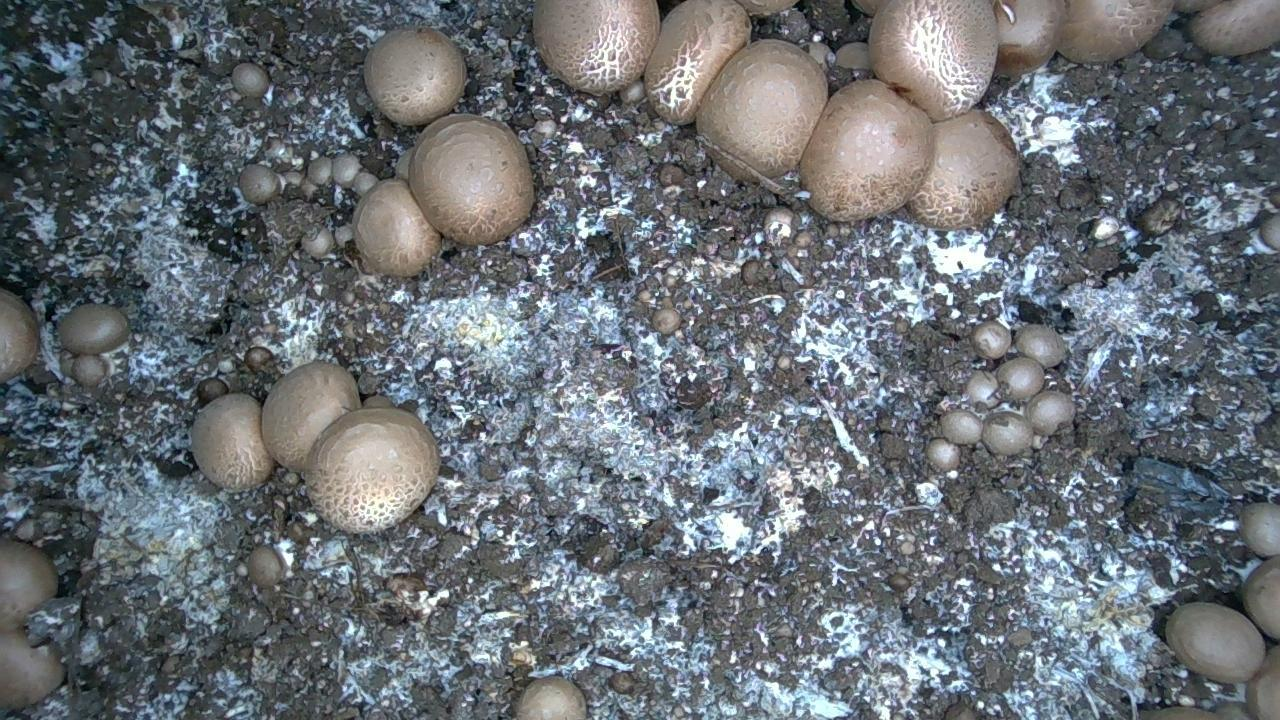BB: (696, 39, 828, 183), (800, 80, 934, 220), (305, 408, 438, 532), (409, 114, 533, 244), (868, 0, 997, 120), (908, 109, 1018, 229), (644, 0, 750, 124), (533, 0, 659, 94), (262, 361, 360, 472), (364, 28, 465, 125), (353, 179, 441, 276), (1166, 602, 1265, 683), (191, 393, 273, 490), (1058, 0, 1173, 62), (993, 0, 1064, 76), (0, 630, 64, 709), (1189, 0, 1279, 56), (58, 304, 128, 354), (1242, 555, 1279, 639), (516, 676, 586, 719), (1246, 645, 1279, 719), (1025, 390, 1075, 435), (1015, 324, 1065, 368), (981, 411, 1032, 454), (1239, 503, 1279, 556), (996, 356, 1044, 399), (238, 164, 279, 204), (247, 545, 285, 587), (971, 321, 1011, 358), (940, 410, 982, 443), (232, 62, 269, 97), (71, 354, 107, 386), (926, 438, 959, 471), (738, 0, 797, 17), (332, 153, 360, 186), (196, 377, 228, 405), (1259, 212, 1279, 251), (244, 346, 273, 371), (657, 0, 681, 18)
